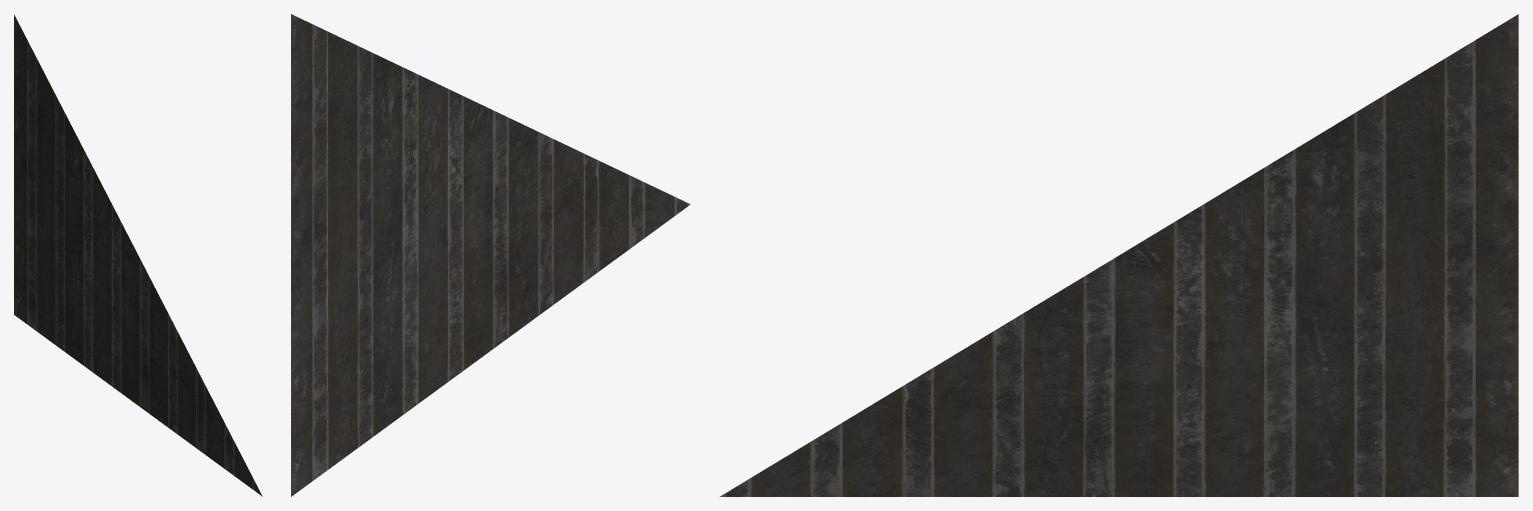
File: triangle02.fbx
The picture shows the model from 3 angles, left to right: view 1: azimuth 30°, elevation 25°; view 2: azimuth 150°, elevation 25°; view 3: azimuth 270°, elevation 25°; orthographic projection. The views are drawn at different scales.
Parts seen in each view (by area): view 1: triangle02; view 2: triangle02; view 3: triangle02.
Boxes of the visible parts, x1,y1,x2,y2 form: triangle02: (14,14,262,496); triangle02: (291,14,690,496); triangle02: (720,14,1518,496).
Size of the model in its own units: 0 by 200 by 300.
